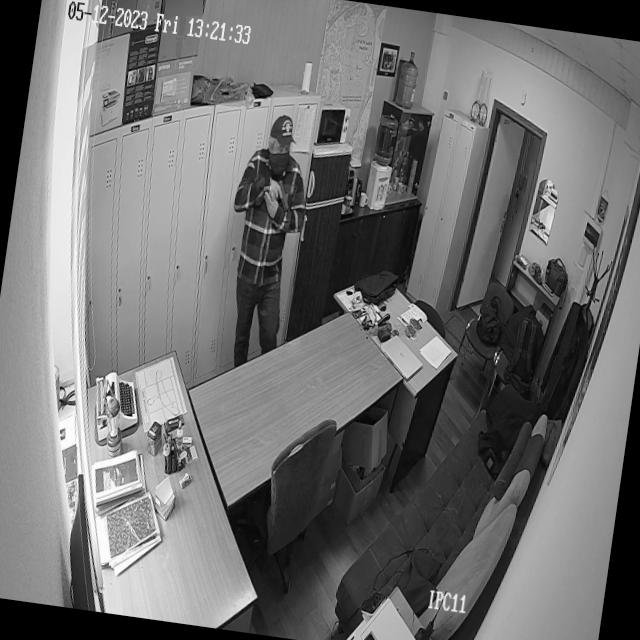gun: (273, 176, 294, 217)
person with a gun: (216, 108, 318, 340)
